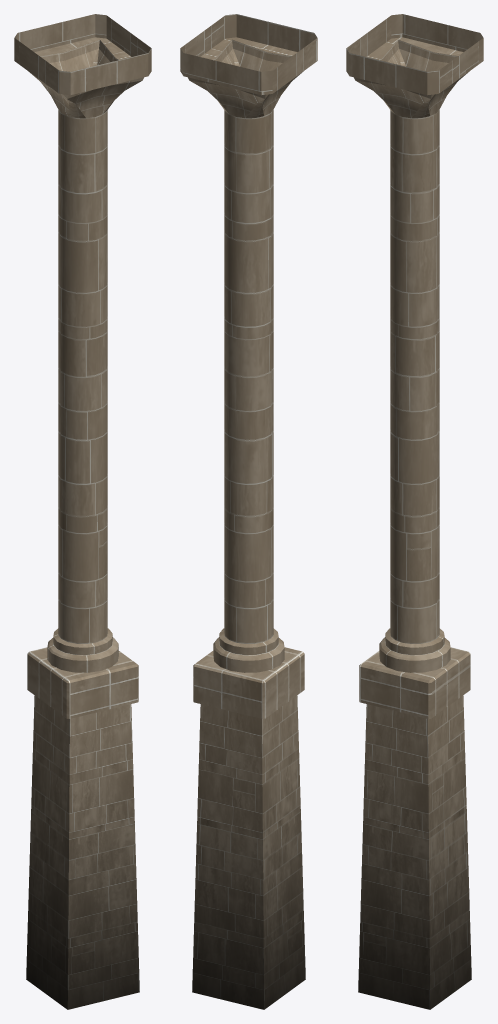
The model's file is Column.fbx.
3 renders of one model, left to right at view 1: azimuth 30°, elevation 25°; view 2: azimuth 150°, elevation 25°; view 3: azimuth 330°, elevation 25°, orthographic.
Visible parts, largest first — view 1: Column; view 2: Column; view 3: Column.
Part boxes in pixels (x1,y1,x2,y2): Column: (14, 14, 151, 1009); Column: (180, 14, 317, 1009); Column: (346, 14, 483, 1009).
Size of the model in its own units: 128 by 1250 by 128.
